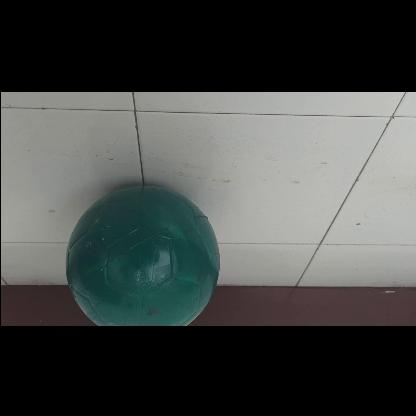green_ball: (66, 185, 218, 325)
